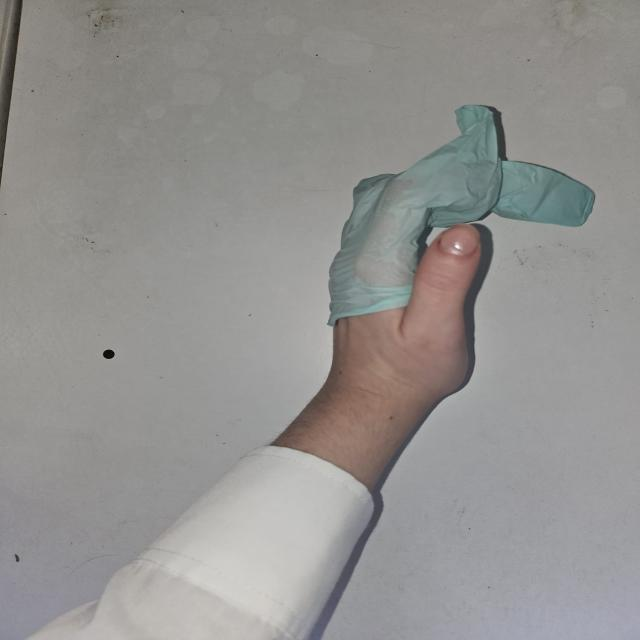glove_partial: (326, 104, 596, 406)
